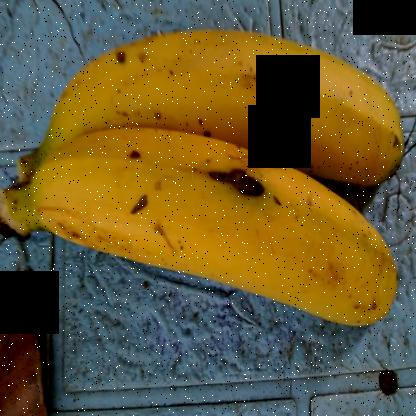freshripe: (46, 24, 415, 188)
ripe: (31, 126, 405, 341)
